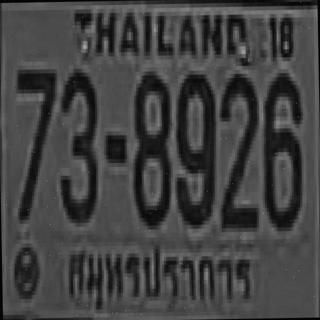N02: (218, 72, 258, 226)
N03: (57, 65, 97, 219)
N06: (260, 69, 302, 227)
N07: (15, 63, 57, 218)
N08: (129, 67, 170, 226)
N09: (173, 68, 215, 223)
P57: (64, 230, 257, 320)
